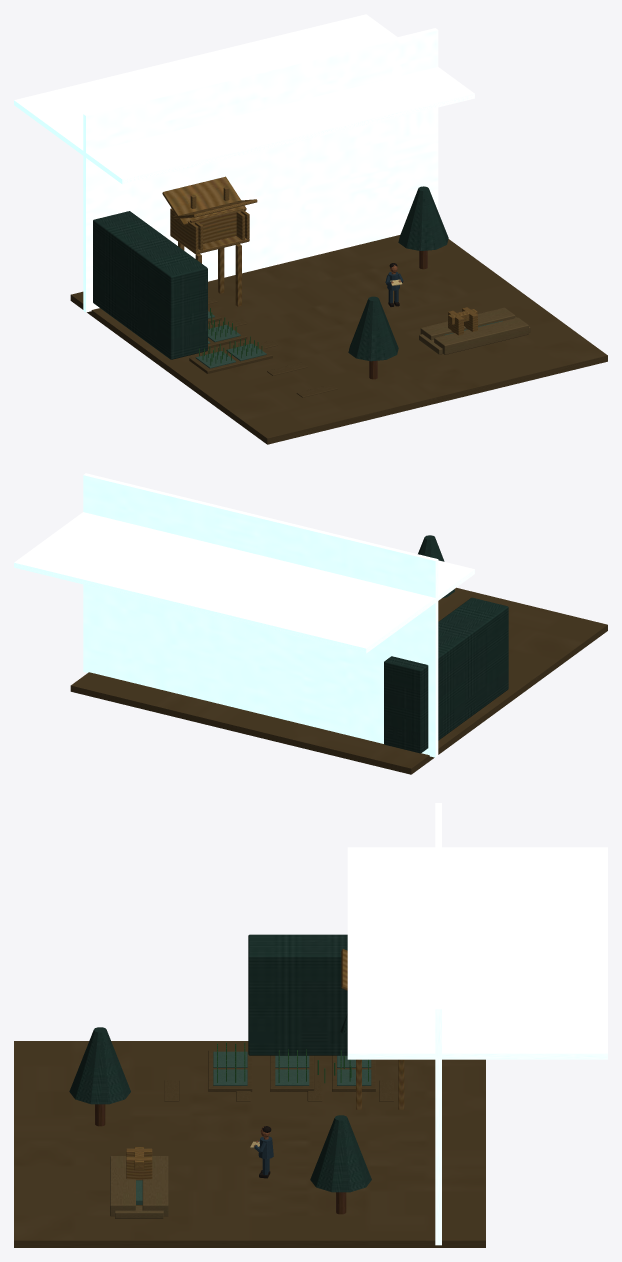
File: room.glb
3 renders of one model, top to bottom at view 1: azimuth 30°, elevation 25°; view 2: azimuth 150°, elevation 25°; view 3: azimuth 270°, elevation 25°, orthographic. The views are drawn at different scales.
Visible parts, largest first — view 1: Open sky backdrop, Village ground, Village tree crown, Lumbung padi, Saluran irigasi, Sawah, Sawah.001; view 2: Open sky backdrop, Village ground, Village tree crown; view 3: Village ground, Open sky backdrop, Village tree crown, Sawah, Saluran irigasi, Lumbung padi.
Boxes of the visible parts, left/top/right/bottom form: Open sky backdrop: left=14, top=14, right=474, bottom=312; Village ground: left=70, top=235, right=607, bottom=444; Village tree crown: left=93, top=186, right=448, bottom=361; Lumbung padi: left=162, top=176, right=477, bottom=335; Saluran irigasi: left=419, top=307, right=530, bottom=354; Sawah: left=195, top=311, right=502, bottom=368; Sawah.001: left=199, top=308, right=262, bottom=365; Open sky backdrop: left=14, top=473, right=474, bottom=757; Village ground: left=70, top=587, right=607, bottom=774; Village tree crown: left=384, top=535, right=508, bottom=753; Village ground: left=14, top=1041, right=485, bottom=1247; Open sky backdrop: left=347, top=803, right=607, bottom=1245; Village tree crown: left=69, top=934, right=371, bottom=1192; Sawah: left=136, top=1051, right=371, bottom=1204; Saluran irigasi: left=110, top=1156, right=168, bottom=1218; Lumbung padi: left=126, top=949, right=404, bottom=1180.
Size of the model in its own units: 15 by 8.2 by 18.25.
12 materials, 12 textured.
